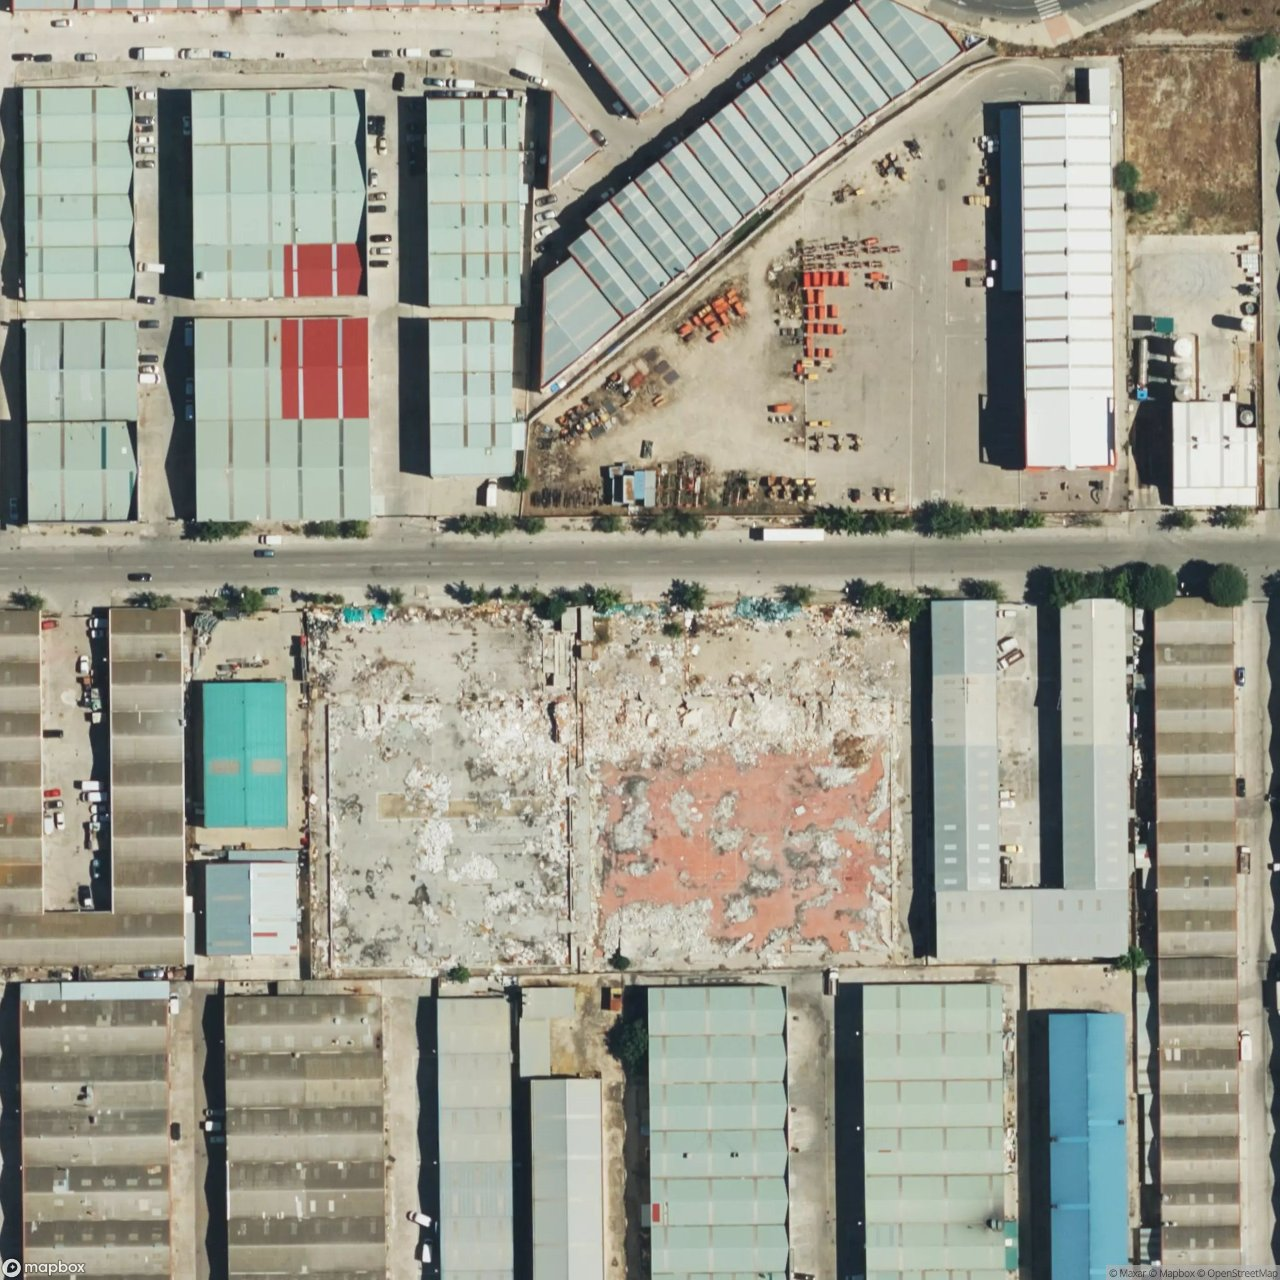dump_site: (539, 348, 690, 445)
